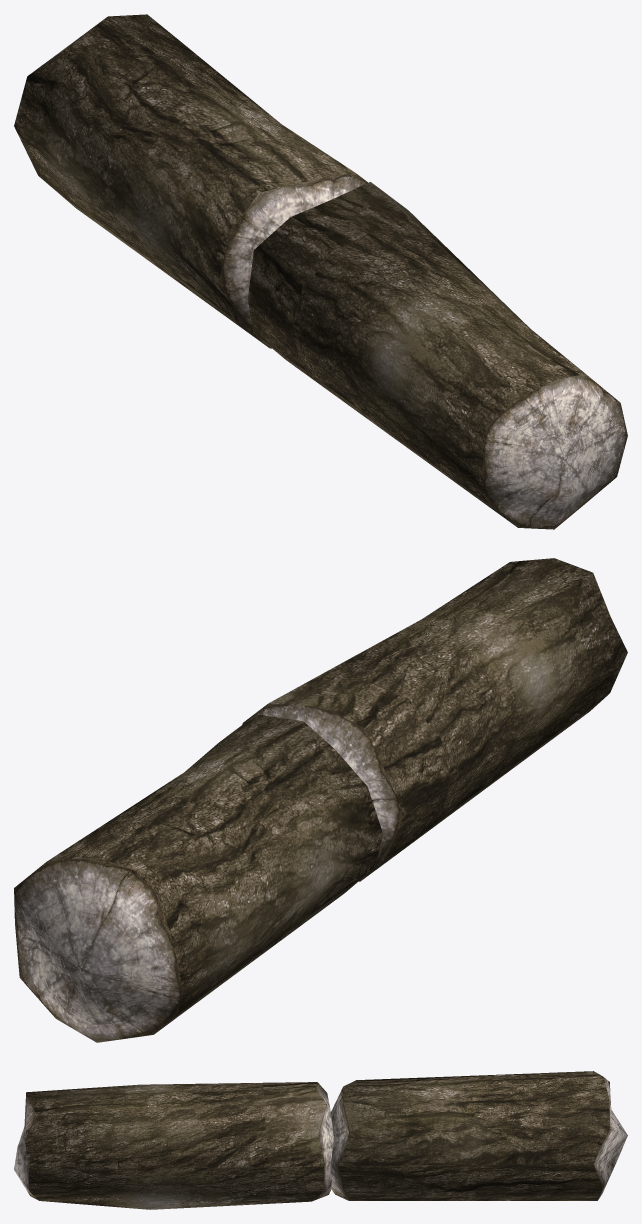
Rendered from model 22 (ต้นมะค่าโมงกลายเป็นหิน).fbx.
3 views of the same model, one above another, from view 1: azimuth 30°, elevation 25°; view 2: azimuth 150°, elevation 25°; view 3: azimuth 270°, elevation 25° (orthographic). The views are drawn at different scales.
Visible parts, largest first — view 1: trunk; view 2: trunk; view 3: trunk.
Boxes of the visible parts, x1,y1,x2,y2 form: trunk: [14, 14, 627, 529]; trunk: [14, 558, 627, 1042]; trunk: [14, 1071, 627, 1209].
Size of the model in its own units: 59.56 by 58.83 by 274.
Materials: 2 (2 with a texture image).
